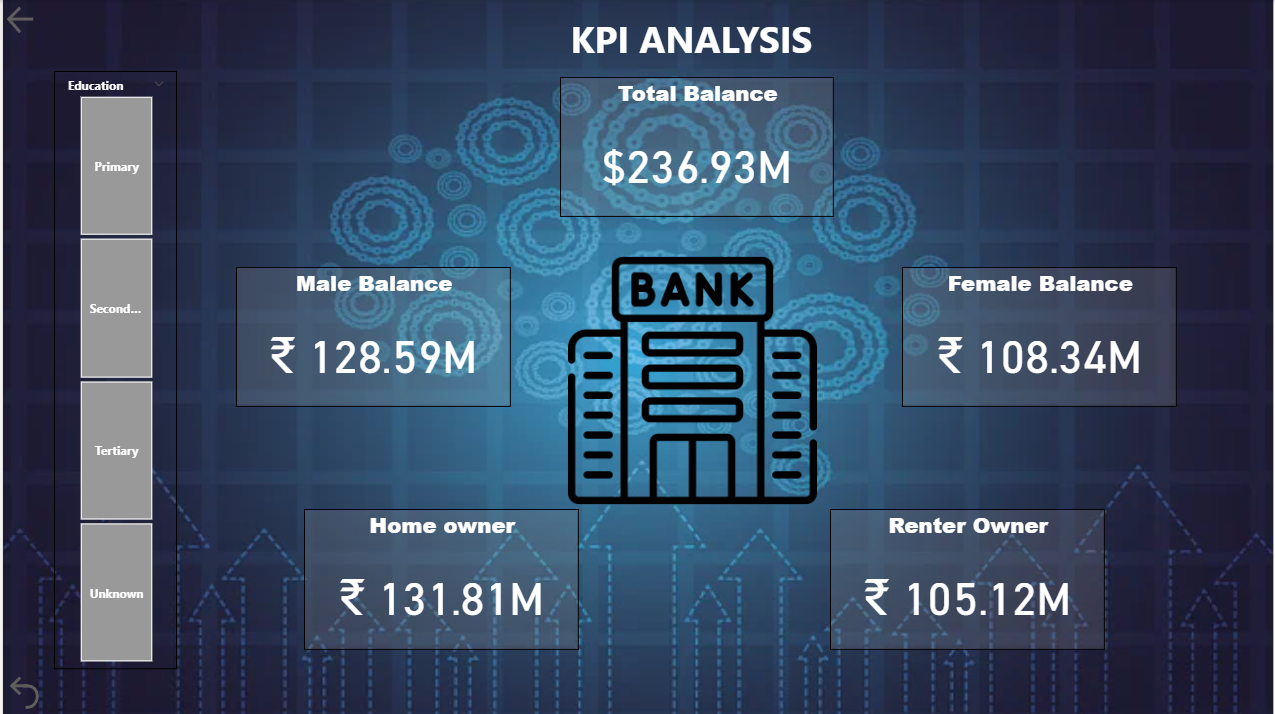

The dashboard page shown, as its layout file describes it:
{"tool":"powerbi","page":{"name":"KPI Analysis","canvas":[1280,720],"ordinal":2},"visuals":[{"type":"image","box":[563.9,252.7,260.7,260.7],"z":0},{"type":"textbox","box":[429.4,8,539.1,63],"z":1000},{"type":"card","title":"Total Balance","fields":{"Values":["Measure.Total balance"]},"box":[561.1,77.1,275.8,141],"z":2000},{"type":"card","title":"Male Balance","fields":{"Values":["Measure.Male Balance"]},"box":[235,269.1,276.7,141],"z":3000},{"type":"card","title":"Female Balance","fields":{"Values":["Measure.Female Balance"]},"box":[906.2,269.1,276.7,141],"z":4000},{"type":"card","title":"Home owner","fields":{"Values":["Measure.Home Owner Balances"]},"box":[303.3,513.4,276.7,141.9],"z":5000},{"type":"card","title":"Renter Owner","fields":{"Values":["Measure.Renter Balances"]},"box":[833.5,513.4,276.7,141.9],"z":6000},{"type":"slicer","fields":{"Values":["Bank data.Education"]},"box":[51.9,71.2,124.3,603.2],"z":7000},{"type":"actionButton","box":[0,0,36.2,39.8],"z":9000},{"type":"actionButton","box":[0,675.6,43.4,44.6],"z":10000}]}

Visuals, with their boxes in screenshot pixels (x1, y1, x2, y2), scaled from the page's 1280x720 canvas onto the 1275x714 screenshot:
image: <region>562, 251, 821, 509</region>
textbox: <region>428, 8, 965, 70</region>
"Total Balance" card: <region>559, 76, 834, 216</region>
"Male Balance" card: <region>234, 267, 510, 407</region>
"Female Balance" card: <region>903, 267, 1178, 407</region>
"Home owner" card: <region>302, 509, 578, 650</region>
"Renter Owner" card: <region>830, 509, 1106, 650</region>
slicer - Bank data.Education: <region>52, 71, 176, 669</region>
actionButton: <region>0, 0, 36, 39</region>
actionButton: <region>0, 670, 43, 713</region>
